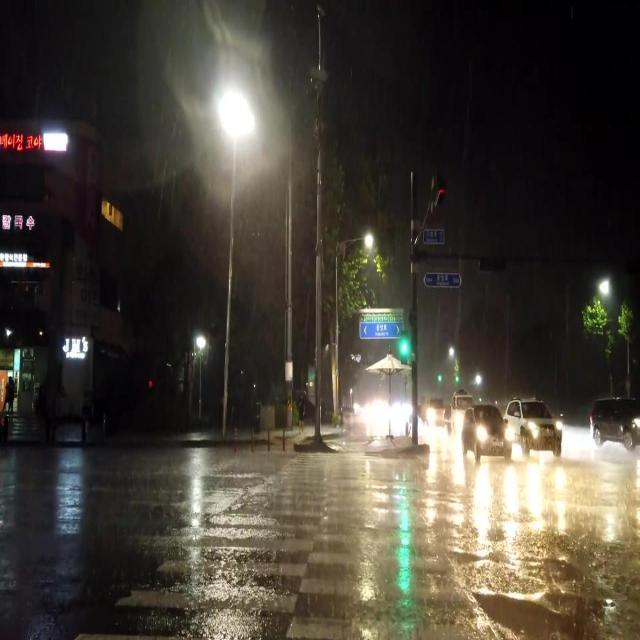Car: (503, 394, 560, 455), (461, 405, 508, 466), (592, 396, 639, 453)
